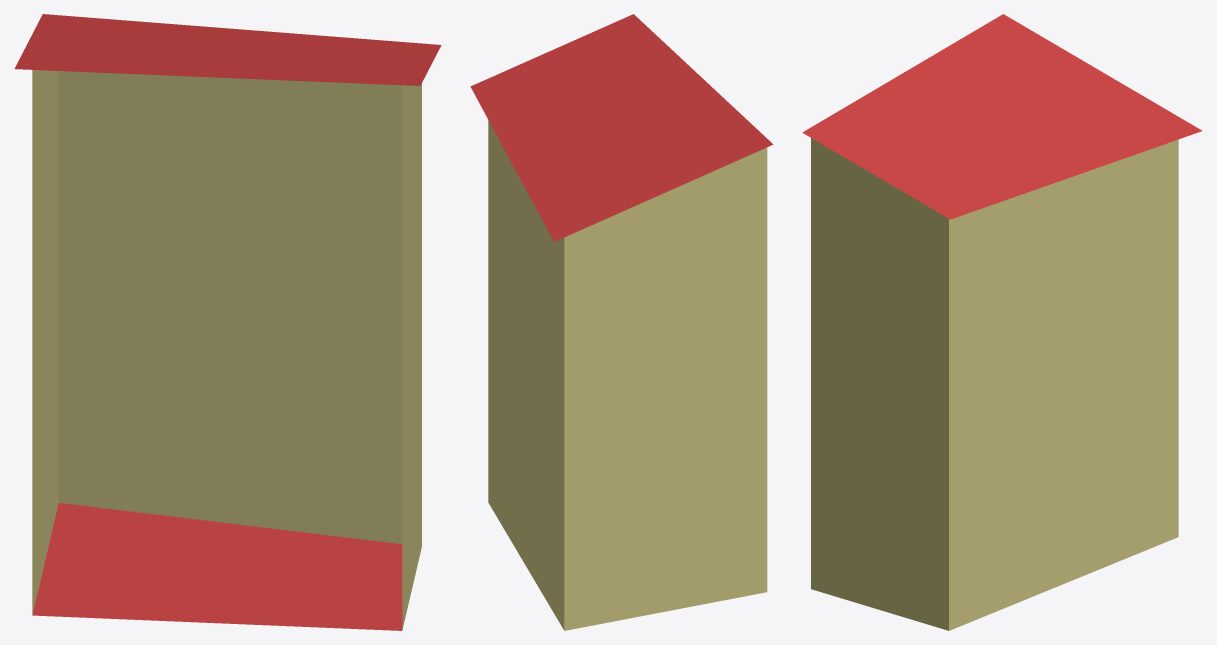
3 views of the same model, side by side, from view 1: azimuth 30°, elevation 25°; view 2: azimuth 150°, elevation 25°; view 3: azimuth 270°, elevation 25° (orthographic). The views are drawn at different scales.
Size of the model in its own units: 6.26 by 6.48 by 8.24.
